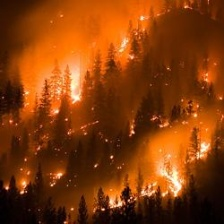fire: (53, 59, 81, 105), (152, 156, 184, 196), (191, 135, 210, 157), (100, 197, 138, 207), (118, 33, 133, 58)
